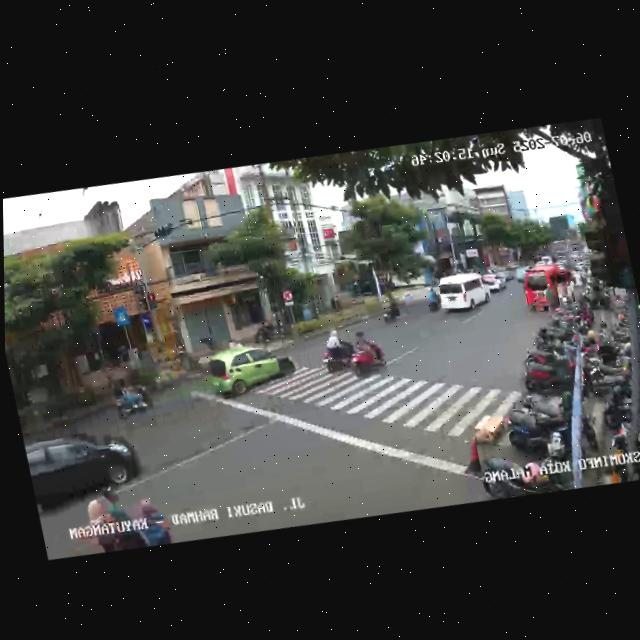car: (25, 416, 150, 524), (201, 335, 302, 410), (519, 260, 580, 318), (434, 267, 495, 320)
motorcycle: (107, 370, 156, 426), (346, 325, 391, 384), (314, 326, 359, 377), (381, 293, 404, 326), (423, 286, 442, 316)
person: (100, 481, 147, 554), (84, 495, 122, 555), (136, 496, 174, 549)
